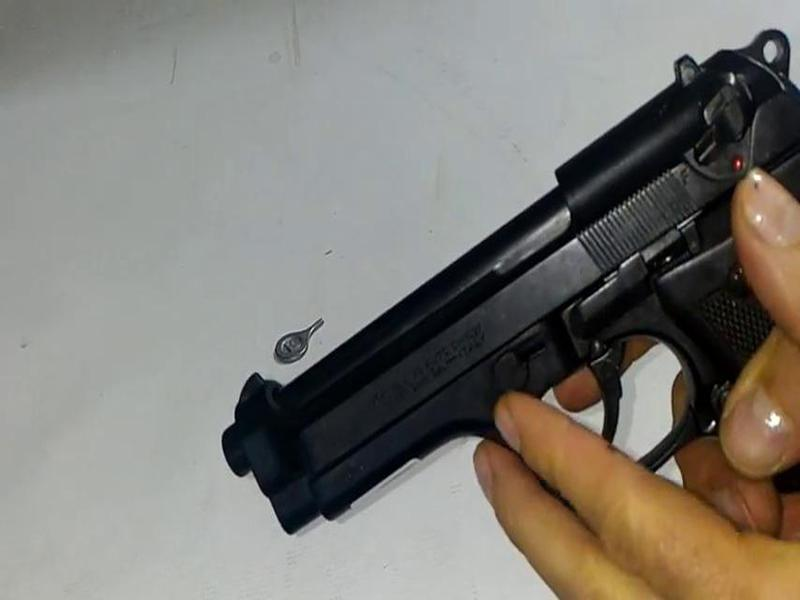Pistola: (196, 21, 800, 510)
